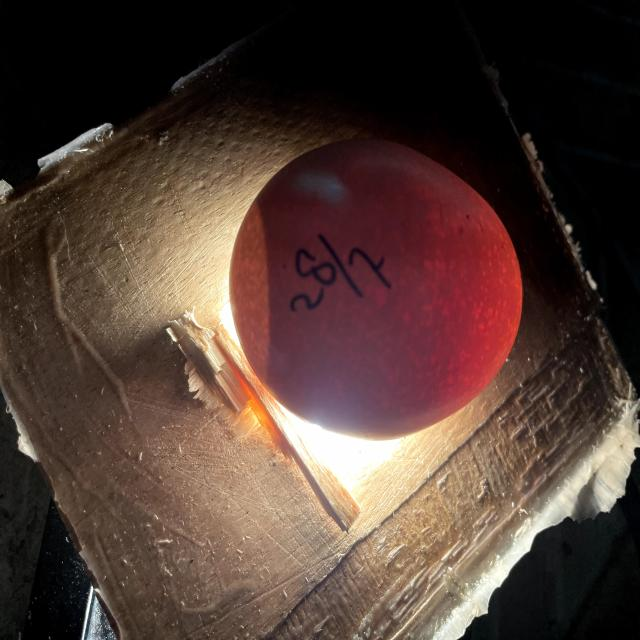fertile: (230, 140, 523, 438)
